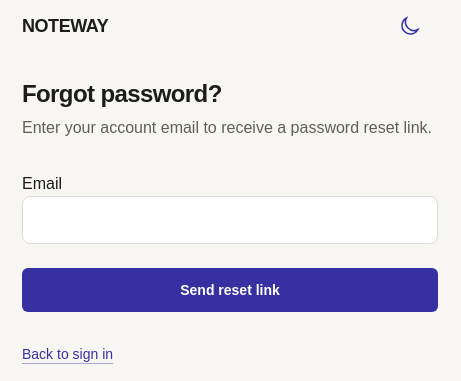
Scenario: requests a reset email and shows the generic confirmation
Type "reader@example.test" into the field labelled "Email". click: (230, 220)
box: [22, 196, 438, 244]
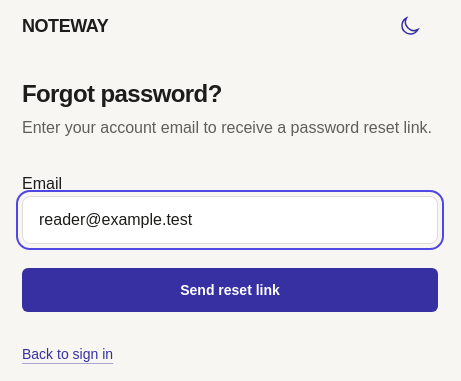
Click the button "Send reset link". click: (230, 290)
box: [22, 268, 438, 312]
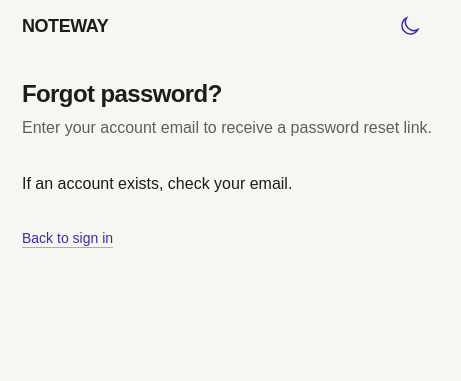
Now the message reads "If an account exists, check your email.", box [22, 175, 292, 192]
